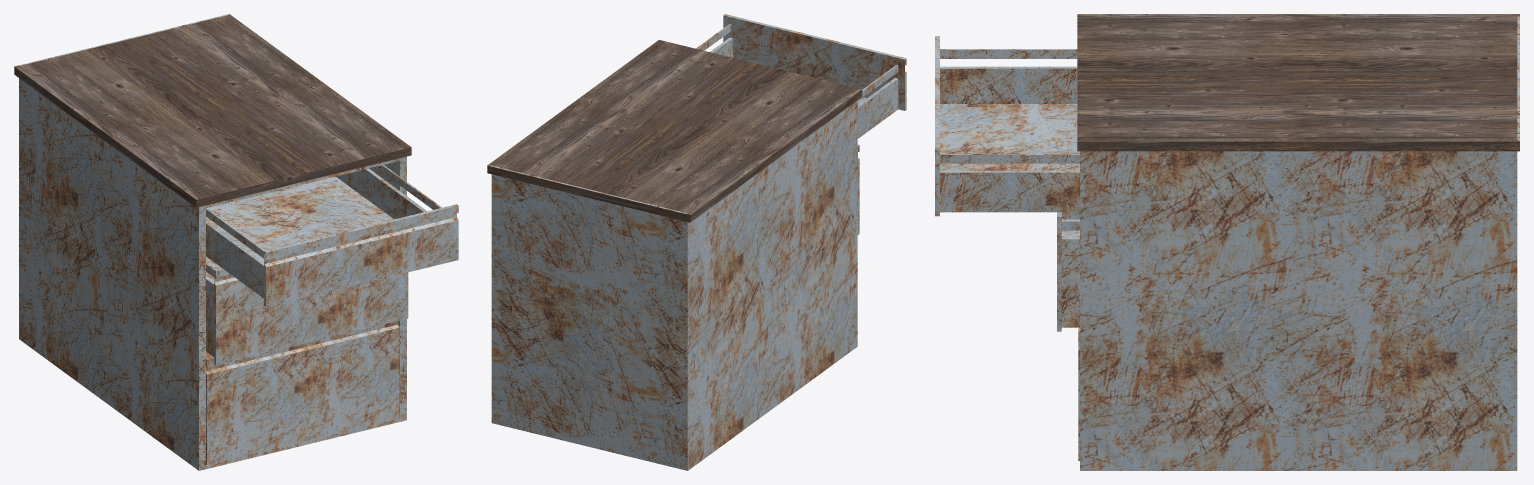
The model's file is filing_cabinet.glb.
The picture shows the model from 3 angles, left to right: view 1: azimuth 30°, elevation 25°; view 2: azimuth 150°, elevation 25°; view 3: azimuth 270°, elevation 25°; orthographic projection. The views are drawn at different scales.
Parts seen in each view (by area): view 1: SketchUp.002, SketchUp.003, SketchUp, SketchUp.001; view 2: SketchUp.002, SketchUp.003; view 3: SketchUp.002, SketchUp.003, SketchUp.001.
Part boxes in pixels (left/top/right/bottom): SketchUp.002: left=14, top=14, right=411, bottom=470; SketchUp.003: left=206, top=165, right=458, bottom=306; SketchUp: left=206, top=321, right=399, bottom=465; SketchUp.001: left=206, top=256, right=408, bottom=365; SketchUp.002: left=487, top=40, right=862, bottom=470; SketchUp.003: left=696, top=14, right=906, bottom=138; SketchUp.002: left=1077, top=14, right=1519, bottom=470; SketchUp.003: left=935, top=36, right=1079, bottom=216; SketchUp.001: left=1057, top=212, right=1079, bottom=331.
Size of the model in its own units: 0.57 by 0.6953 by 1.1.
Materials: 2 (2 with a texture image).
